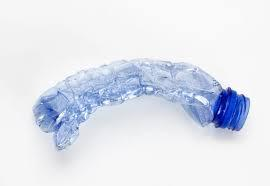plastic: (32, 61, 255, 145)
